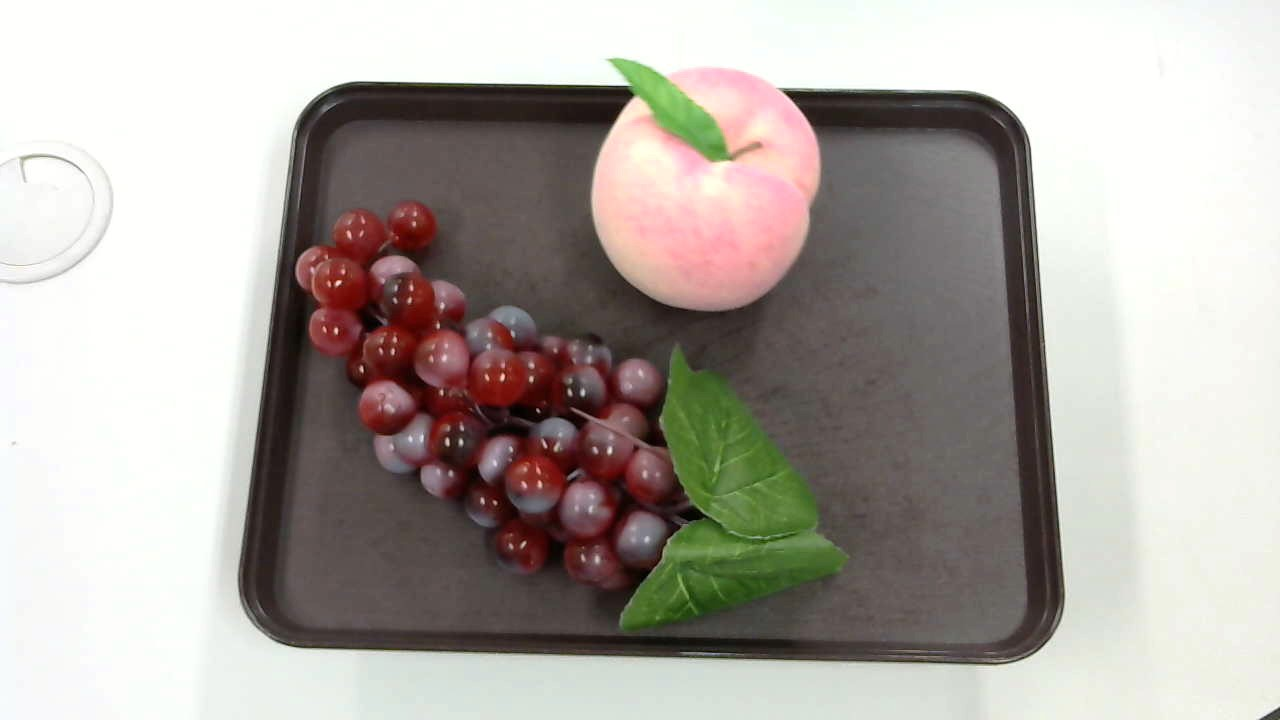grape: (286, 202, 861, 646)
peach: (576, 52, 825, 313)
